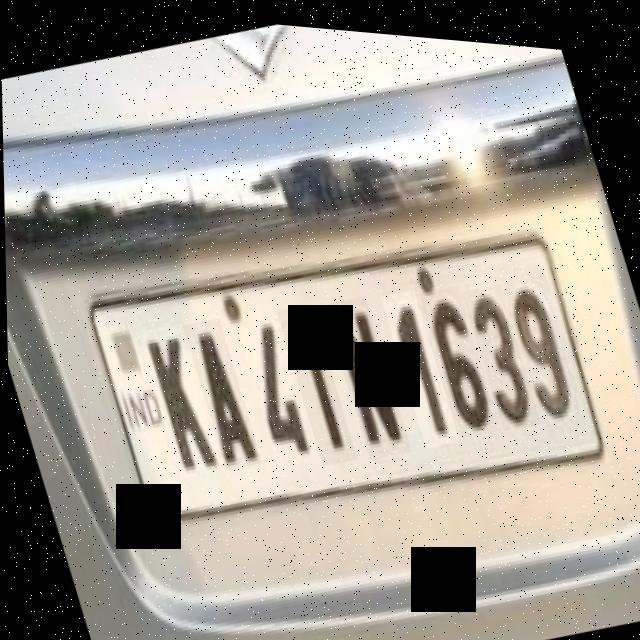1: (275, 295, 356, 462), (379, 279, 458, 443)
3: (460, 272, 540, 423)
4: (230, 297, 314, 460)
6: (417, 275, 499, 431)
9: (500, 258, 586, 428)
A: (181, 311, 260, 469)
K: (135, 318, 221, 478)
N: (321, 286, 410, 455)
